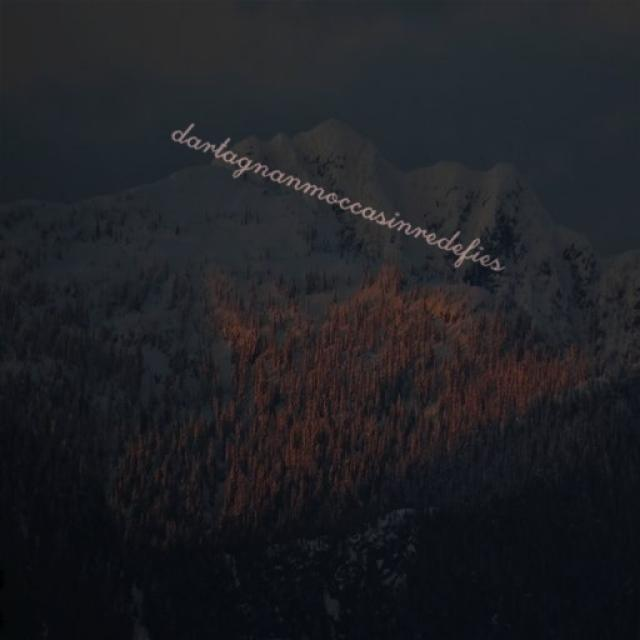watermark: (162, 114, 524, 277)
